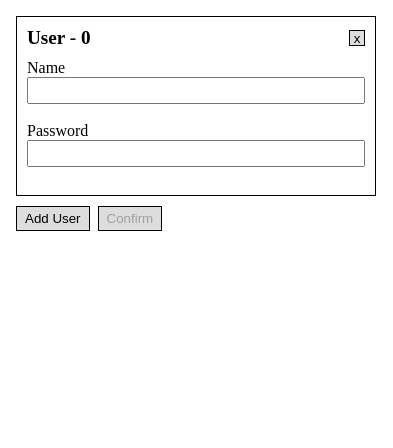
Test: 5. delete user and duplicate test
Click the button "Add User": x=53, y=218 [16,206,90,231]
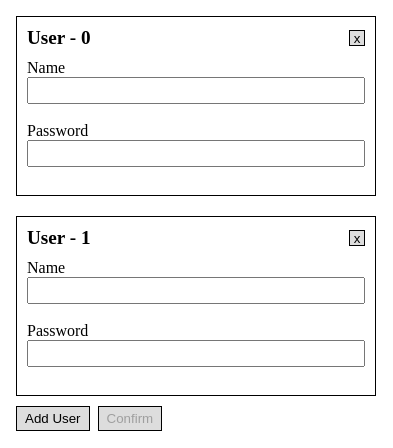
Expected: the number of fields with test id "Name" is 2
Expected: the number of fields with test id "Password" is 2, [27,140,365,167]; [27,340,365,367]
In the 1st field with test id "Name": x=196, y=90 [27,77,365,104], type "test"
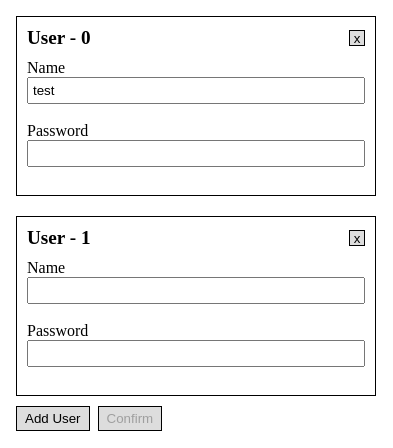
In the 2nd field with test id "Name": x=196, y=290 [27,277,365,304], type "test"
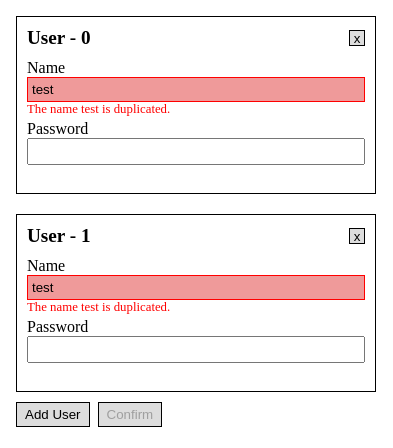
Expected: the text "The name test is duplicated." is shown 2 times, [27,102,170,116]; [27,300,170,314]
Click the 2nd button with test id "delete": x=357, y=236 [349,228,365,244]
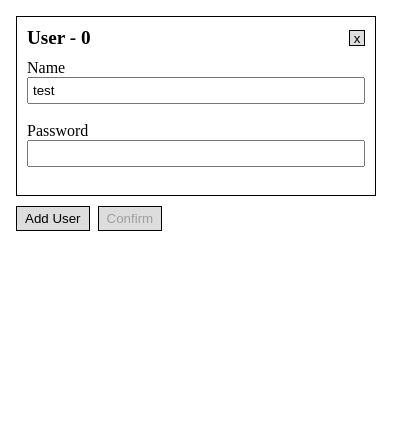
Expected: the text "The name test is duplicated." is not shown
